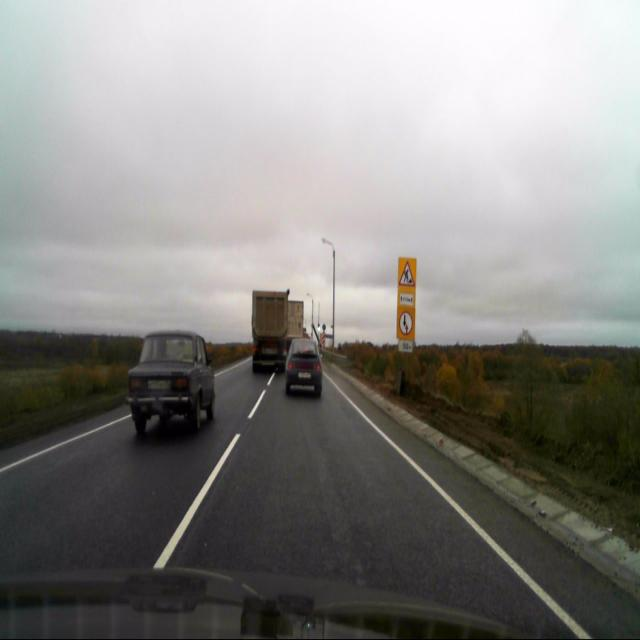road sign: (398, 257, 416, 289), (398, 290, 414, 307)
